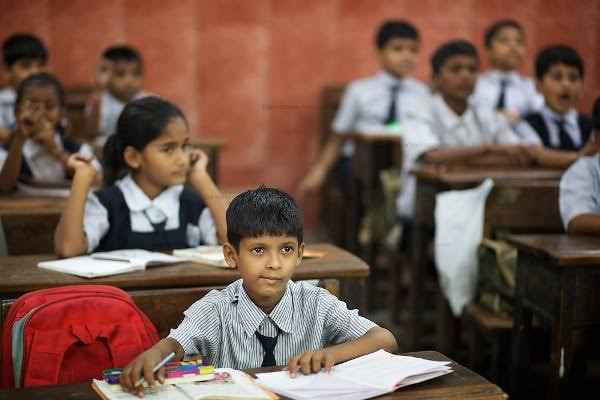student: (217, 192, 315, 305), (113, 99, 203, 200), (14, 76, 70, 146)
